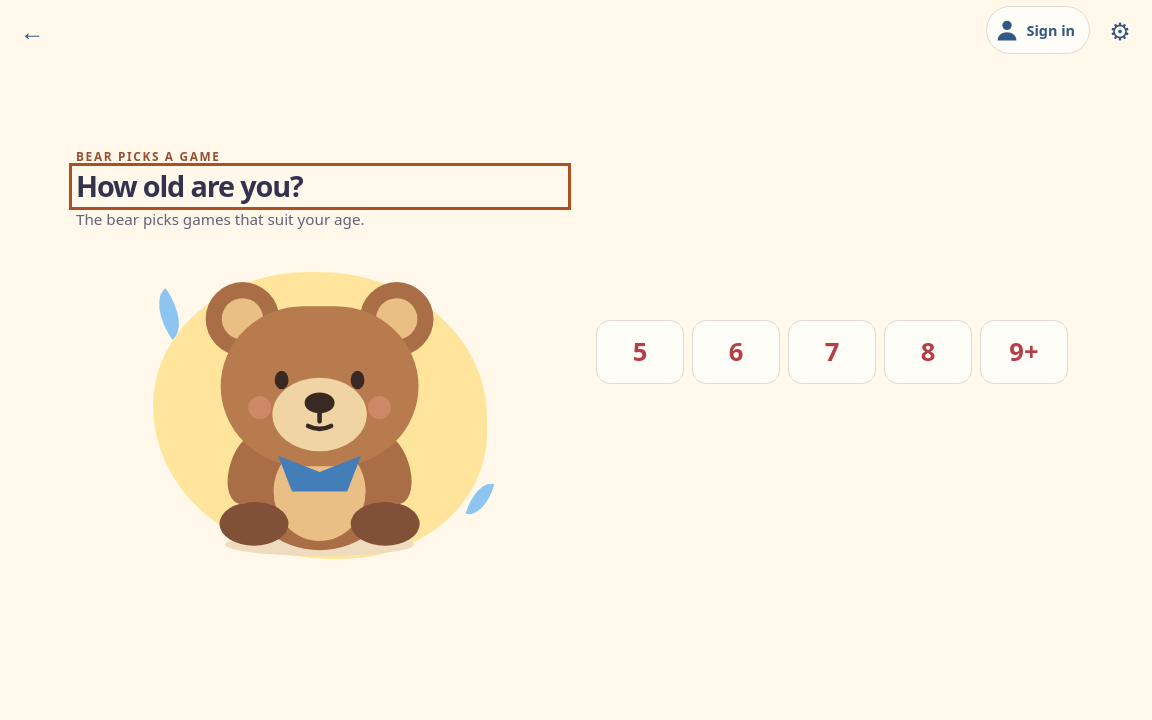
Test: age screen and next-game screen › blocked storage: asks the age each time the mode starts and starts at 5
Earlier steps of the test are not shown.
Click the button named "8 years": coordinates (928, 352) [884, 320, 972, 384]
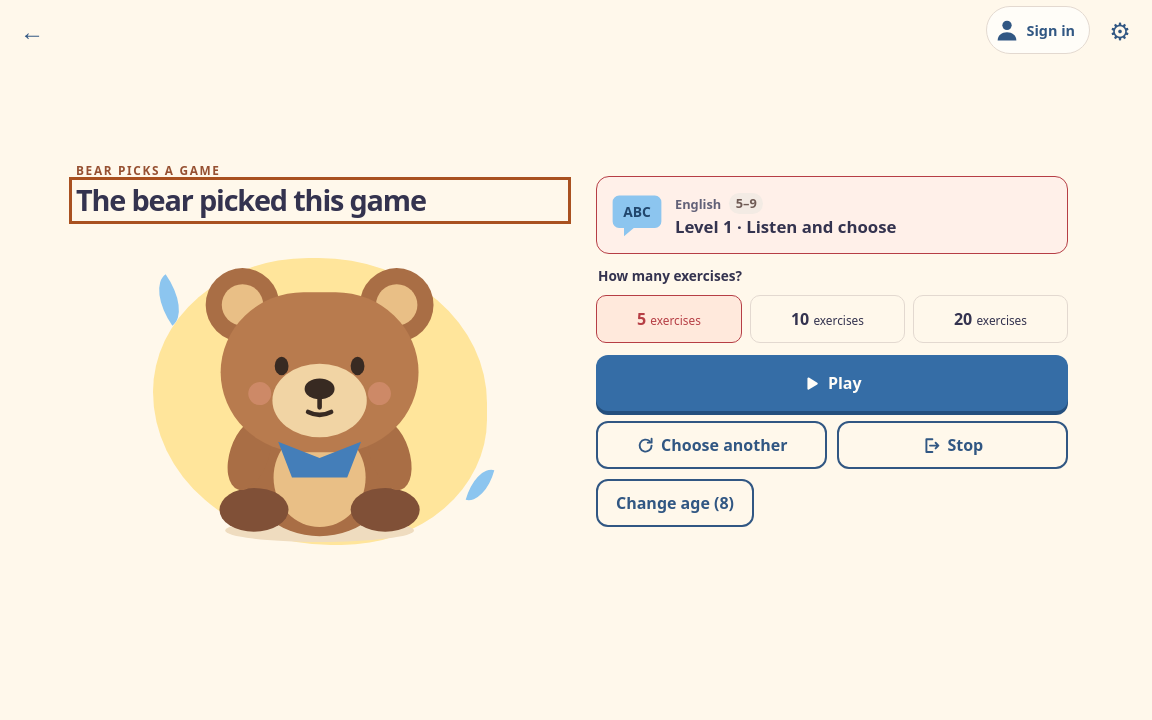
Click the radio button labelled "10 exercises": coordinates (827, 320) [750, 296, 905, 344]
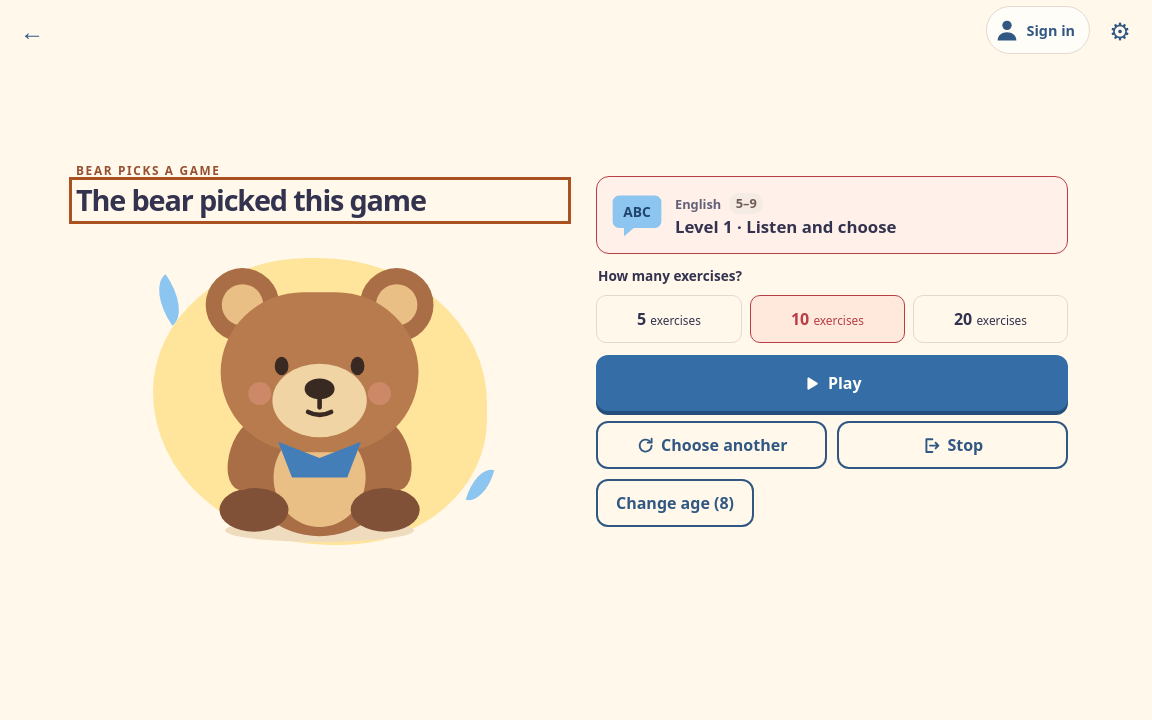
Click the button "Choose another": coordinates (712, 446) [596, 422, 827, 470]
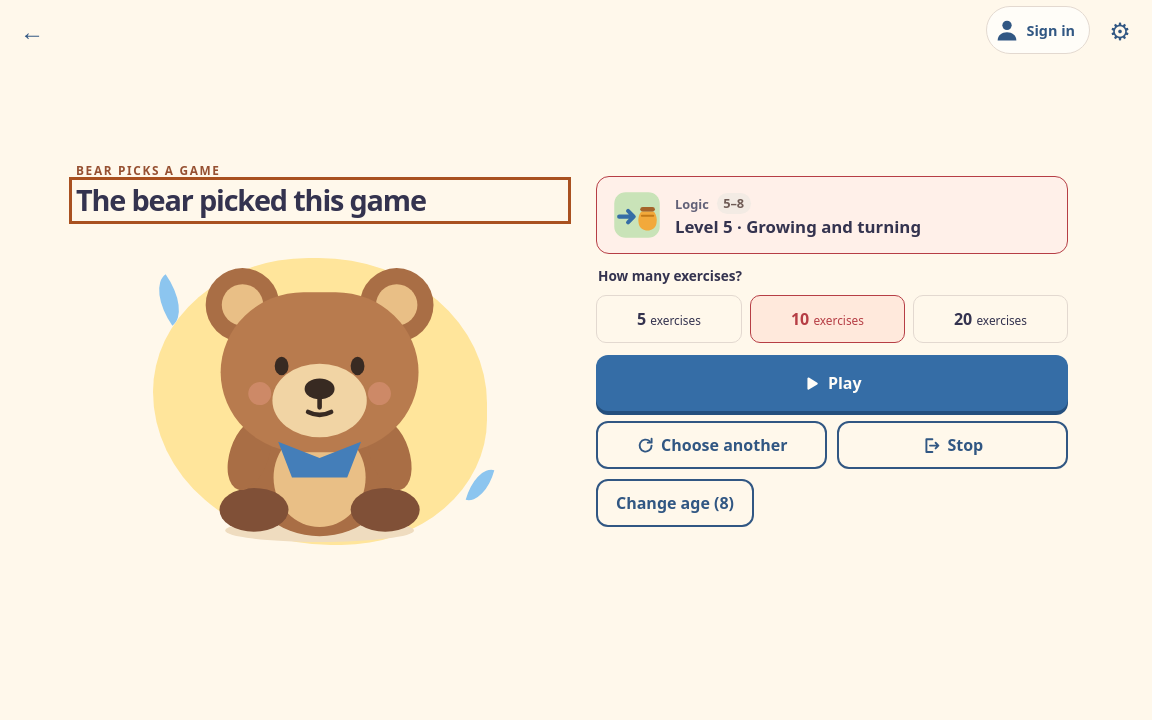
Now the radio button labelled "10 exercises" is checked, box [750, 296, 905, 344]
Click the button "Stop": coordinates (952, 446) [837, 422, 1068, 470]
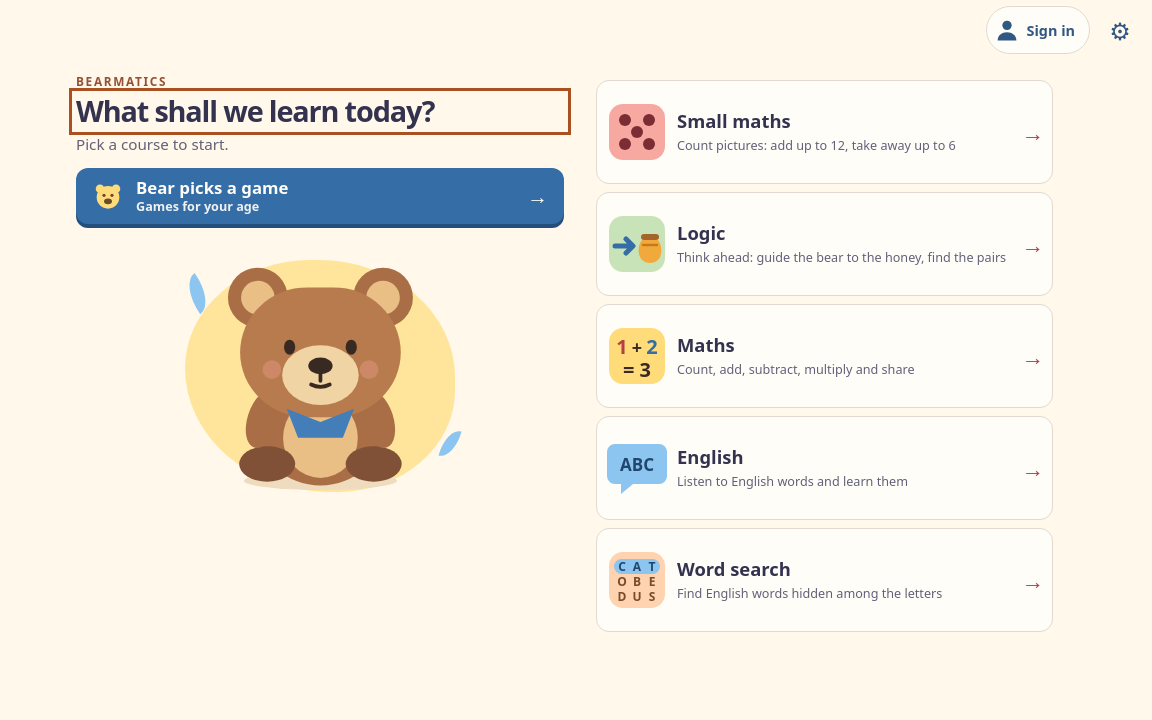
Now the heading reads "What shall we learn today?", box [76, 91, 434, 130]
Click the button "Bear picks a game Games for your age →": coordinates (108, 196) [76, 168, 564, 224]
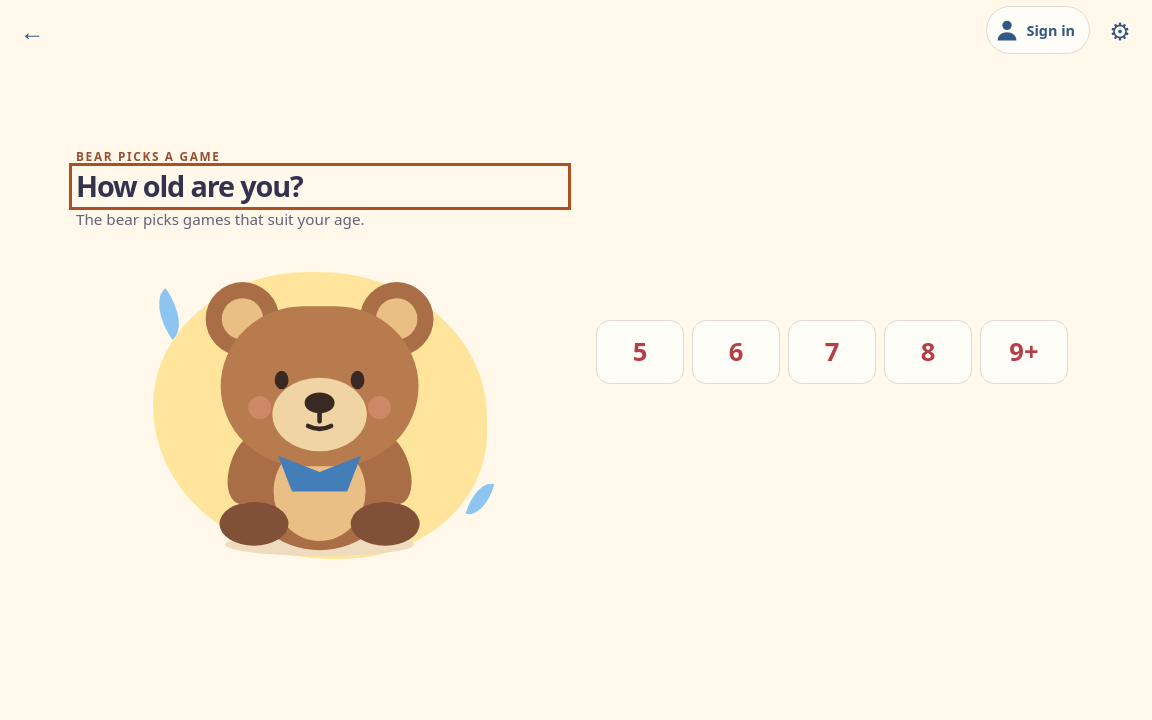
Now the heading reads "How old are you?", box [76, 166, 303, 205]
Click the button named "8 years": coordinates (928, 352) [884, 320, 972, 384]
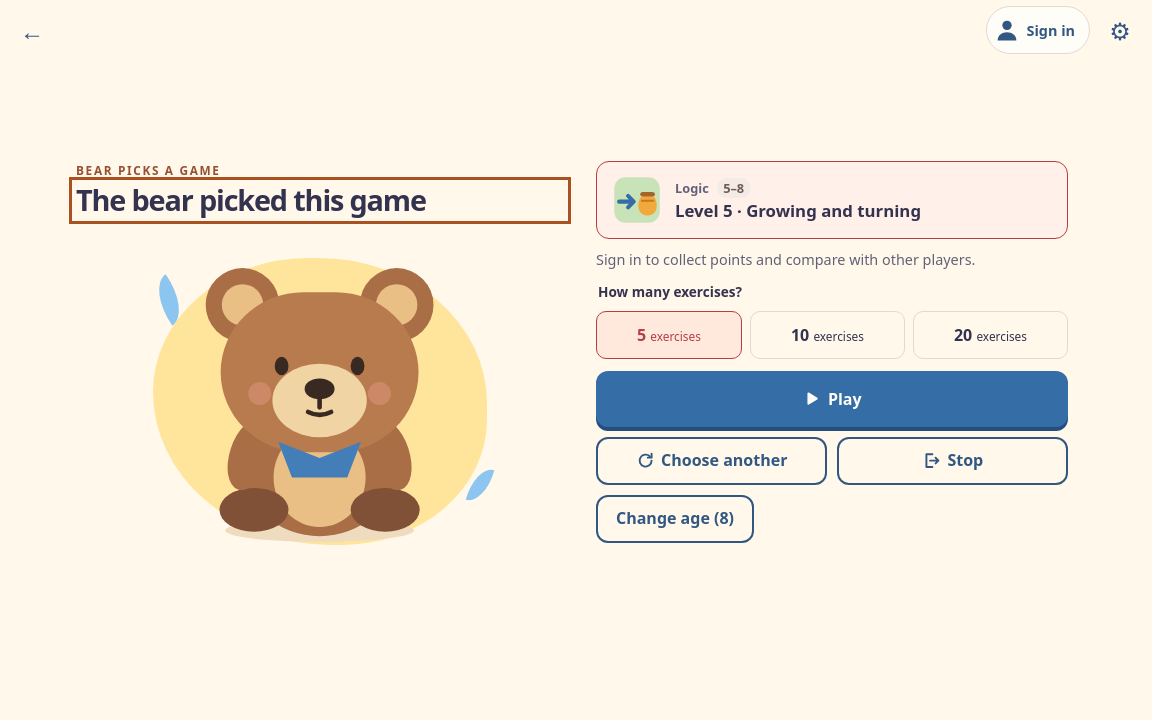
Now the radio button labelled "5 exercises" is checked, box [596, 311, 742, 359]
